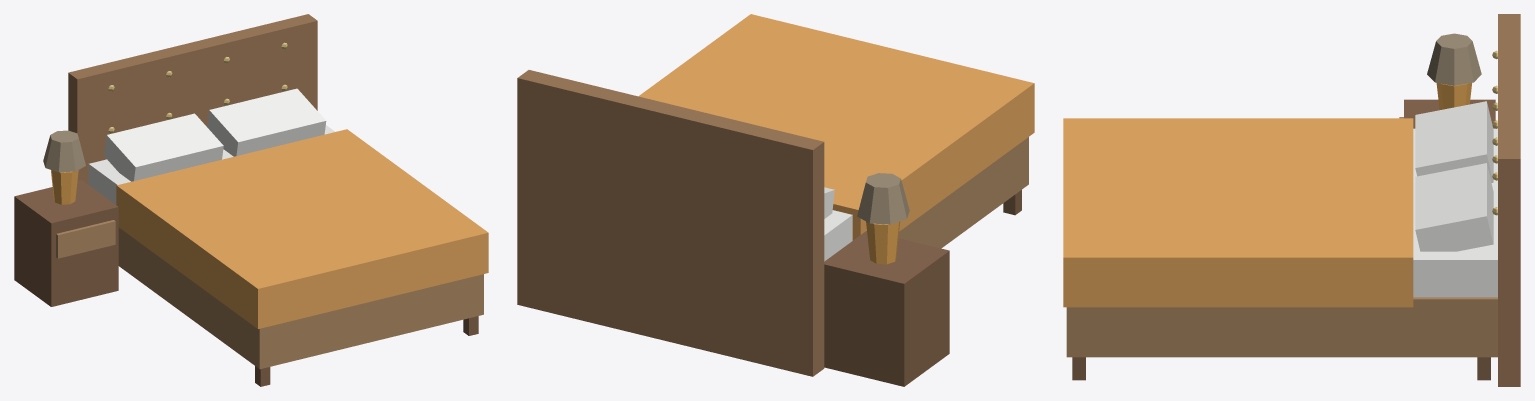
Rendered from HJ_Cama.fbx.
The picture shows the model from 3 angles, left to right: view 1: azimuth 30°, elevation 25°; view 2: azimuth 150°, elevation 25°; view 3: azimuth 270°, elevation 25°; orthographic projection. The views are drawn at different scales.
Visible parts, largest first — view 1: HJ_Cama; view 2: HJ_Cama; view 3: HJ_Cama.
Boxes of the visible parts, box(x1,y1,x2,y2) form: HJ_Cama: box(14, 14, 488, 386); HJ_Cama: box(517, 14, 1034, 386); HJ_Cama: box(1063, 14, 1520, 386).
Size of the model in its own units: 1.9 by 1.1 by 2.
